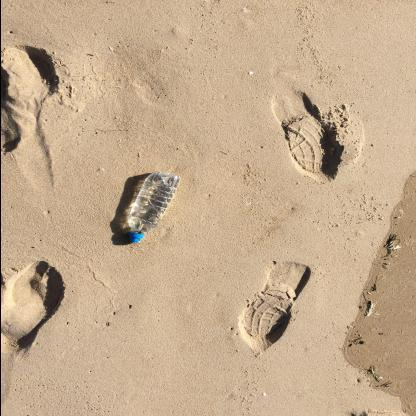plastik: (127, 173, 181, 245)
